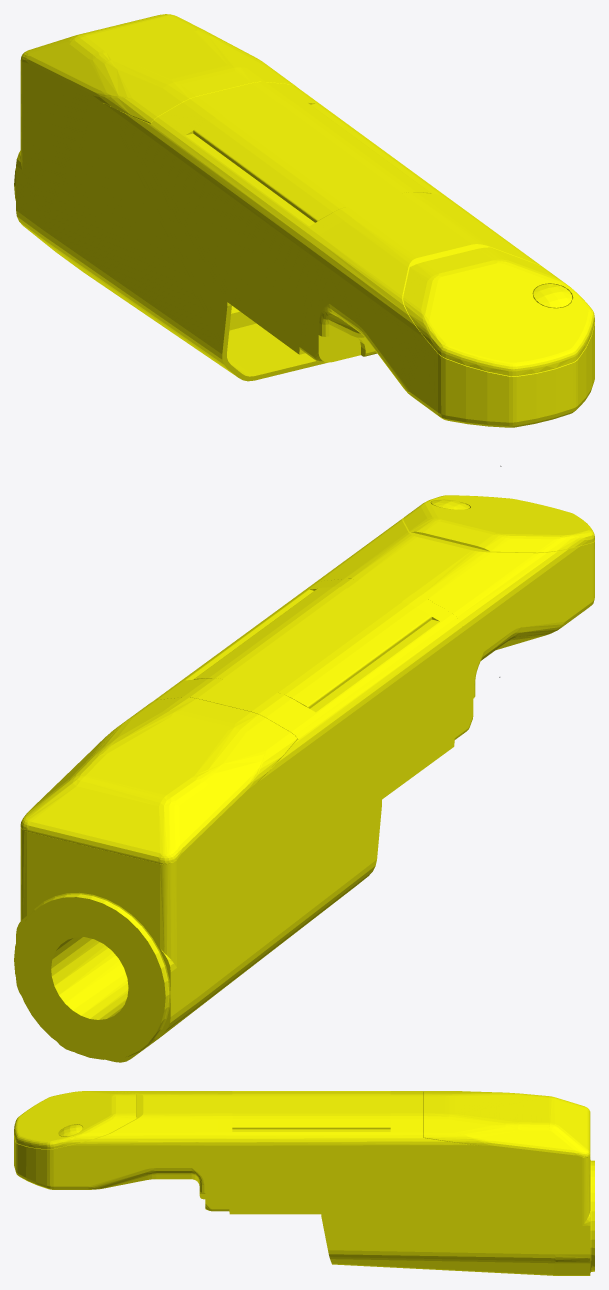
3 views of the same model, one above another, from view 1: azimuth 30°, elevation 25°; view 2: azimuth 150°, elevation 25°; view 3: azimuth 270°, elevation 25° (orthographic). The views are drawn at different scales.
Visible parts, largest first — view 1: node; view 2: node; view 3: node.
Part boxes in pixels (x1,y1,x2,y2): node: [14, 14, 594, 466]; node: [14, 495, 594, 1062]; node: [14, 1091, 594, 1275].
Bounding box in the file's own units: 100 × 158 × 511.
